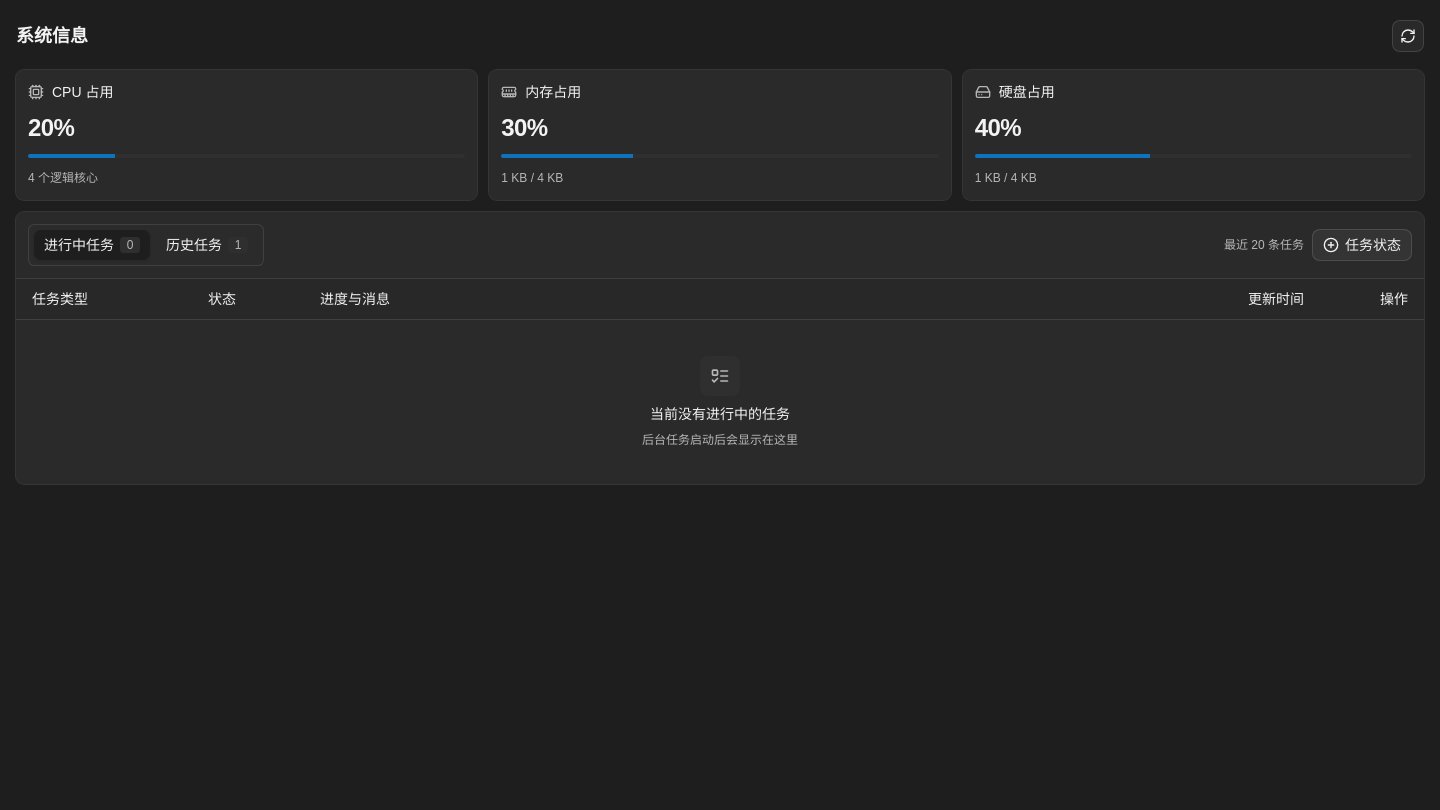
Test case: 缺少历史及当前名称时保留账号ID和结果，不读取全目录补造名称
What coordinates should you click on to do the following:
click the tab "历史任务 1"
I would click on:
 (207, 245)
Its box is [155, 229, 259, 261].
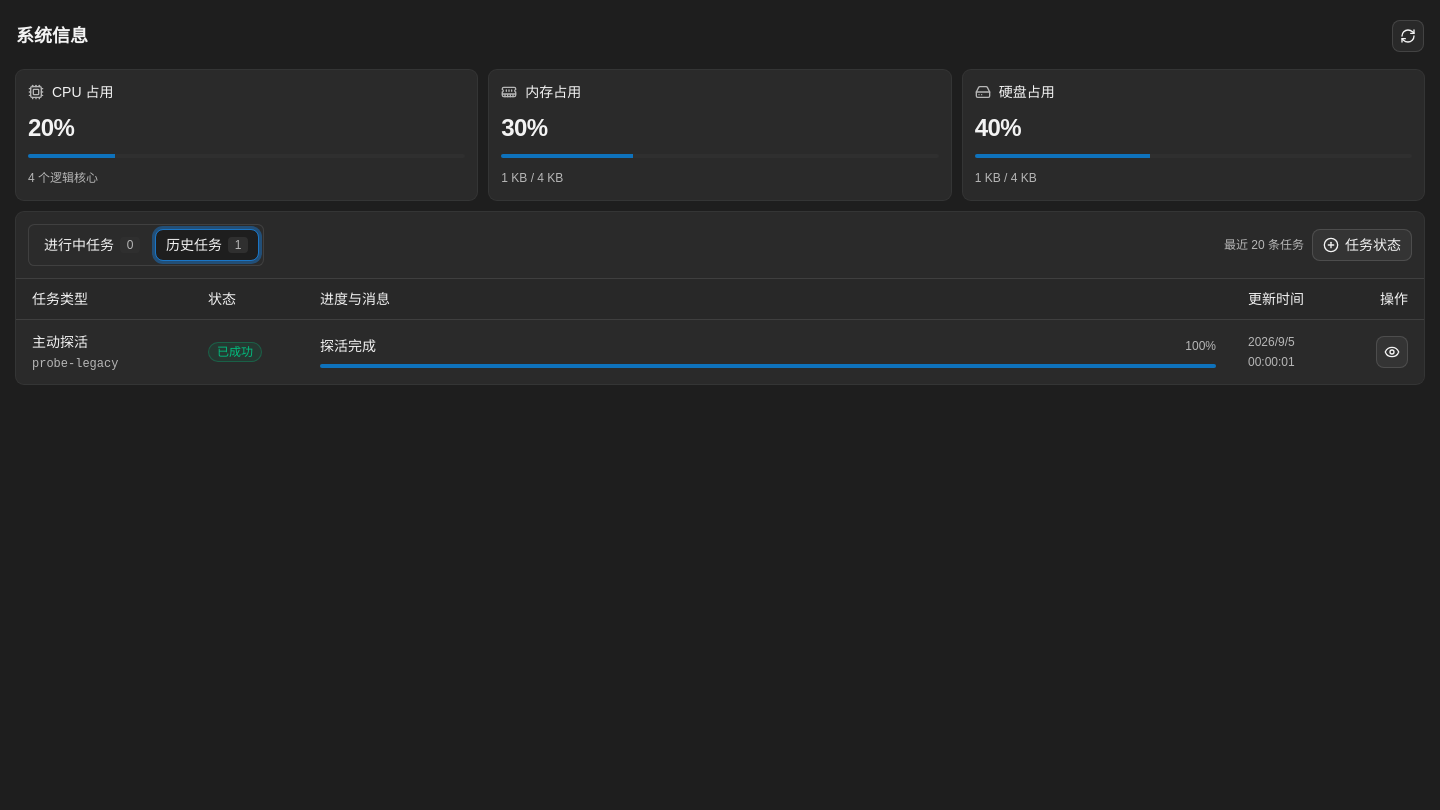
What coordinates should you click on to do the following:
click the button named "查看任务"
I would click on:
 (1392, 352)
Its box is [1376, 336, 1408, 368].
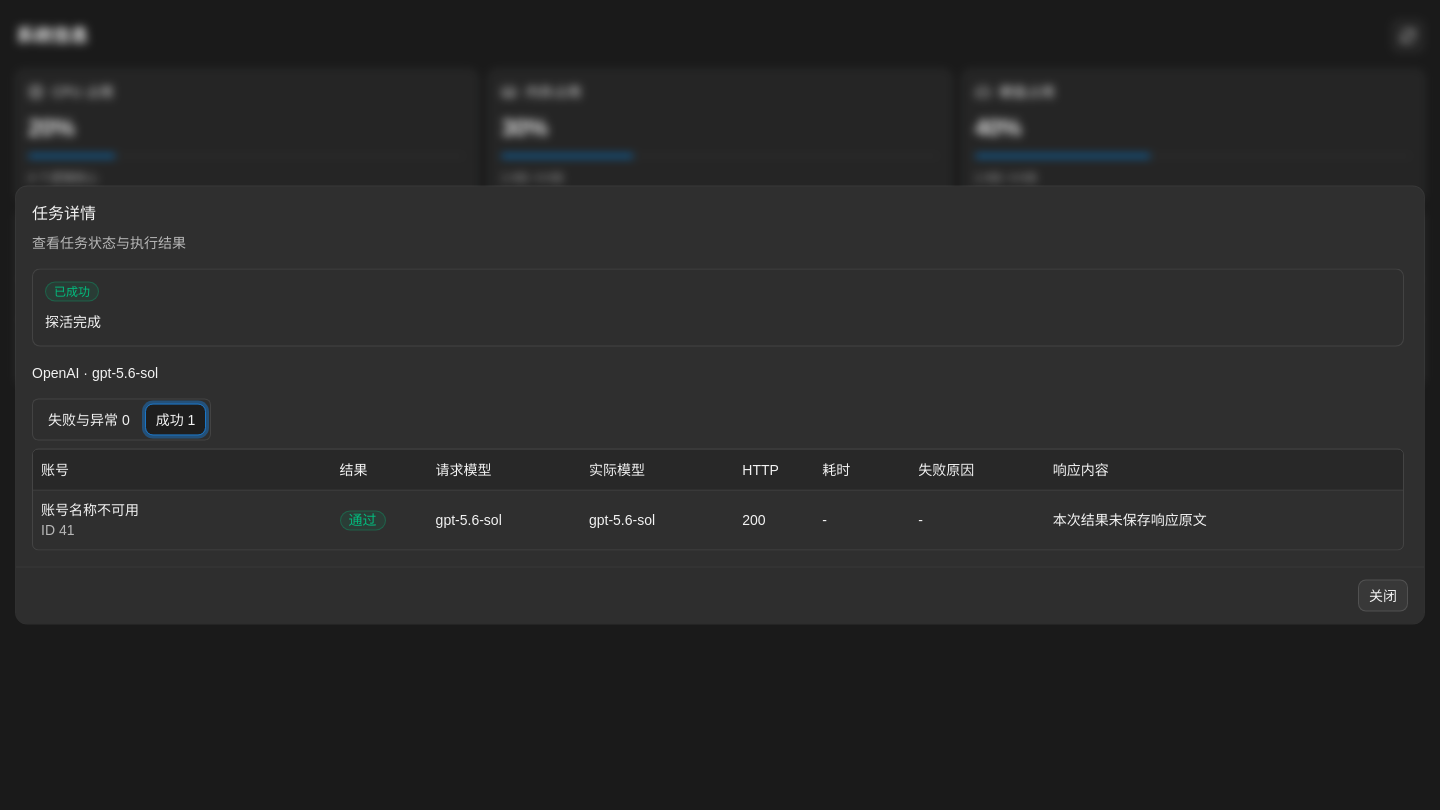
Result: the text "账号名称不可用" is shown at [41, 502, 139, 518]
Result: the text "ID 41" is shown at [41, 522, 74, 538]
